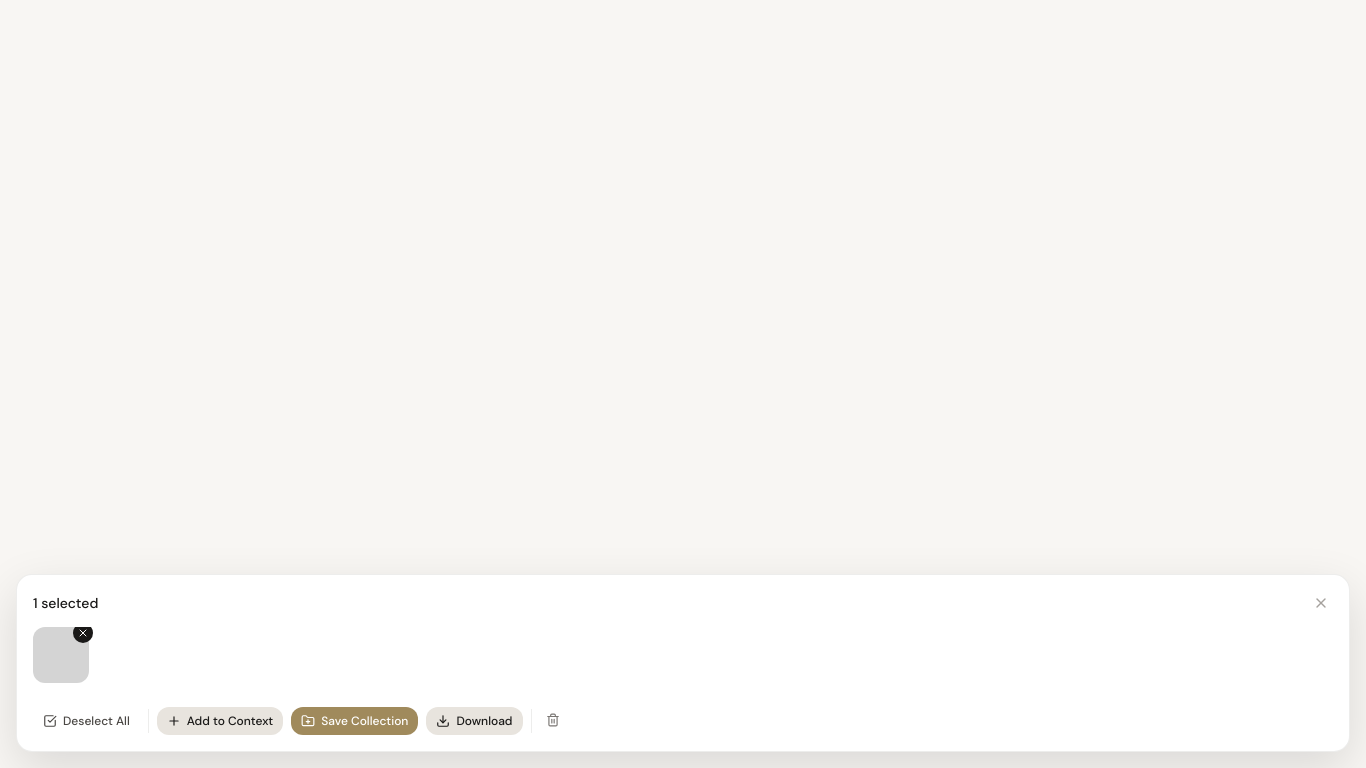
Scenario: SelectionTray › multi-select collections with Command+click › should show hint text about Command+click
Click the button "Save Collection" at [355, 721], box left=291, top=707, right=418, bottom=735
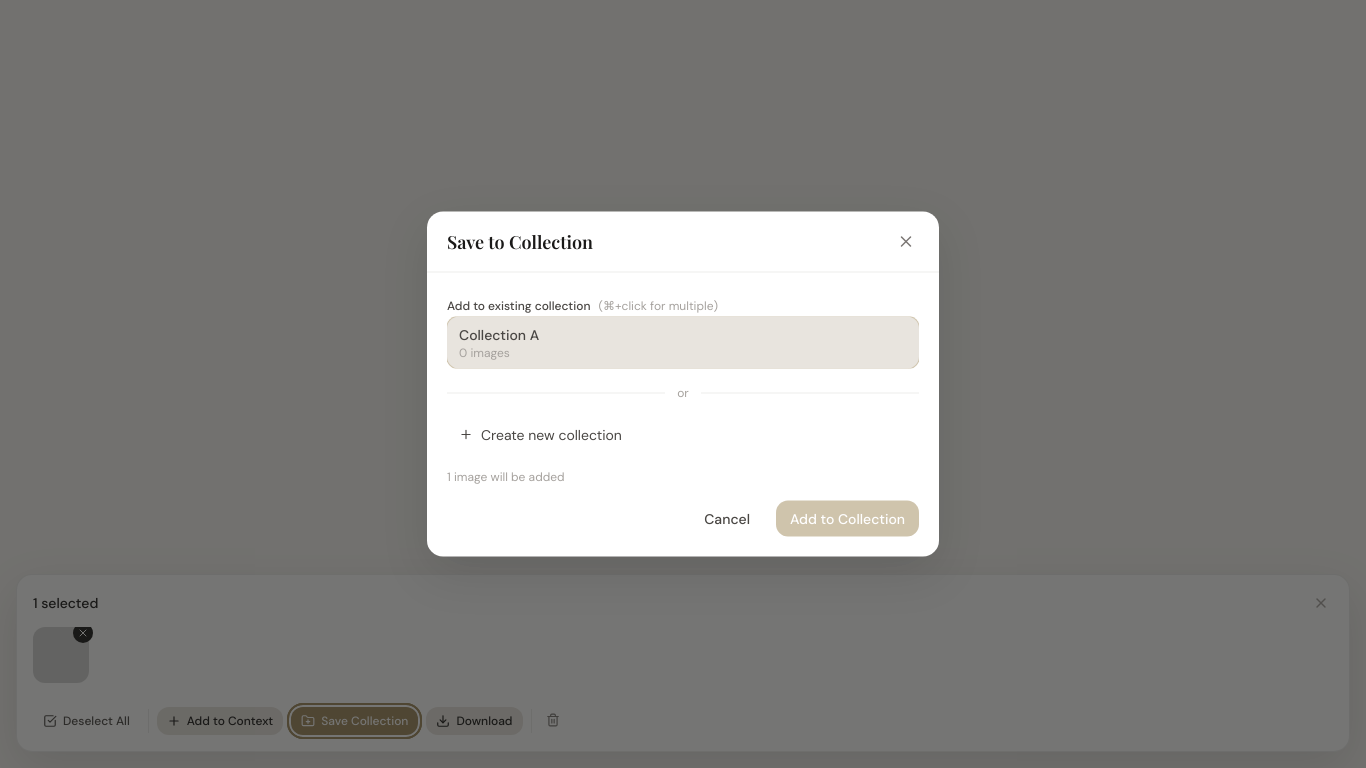
expect the text "(⌘+click for multiple)" is shown: met, box left=598, top=298, right=718, bottom=314
